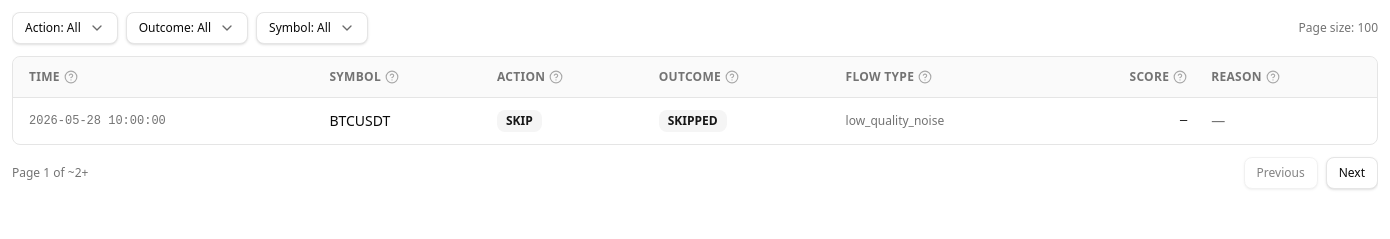
Test: DecisionsFeed — filter changes reset to page 1 › changing the Action filter resets cursor stack so page shows 1
// Advance to page 2.
Click the button "Next".
click(1352, 173)  # box [1326, 157, 1378, 189]
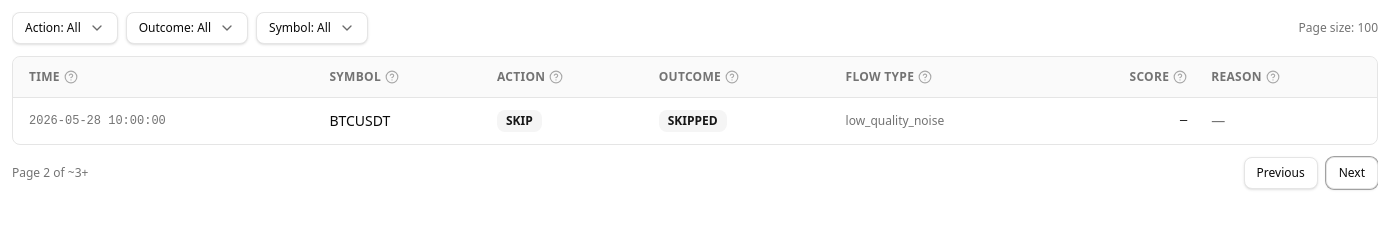
Now the text "Page 2 of ~3+" is shown, box [12, 165, 88, 181]
Click the button "Action: All".
click(65, 28)  # box [12, 12, 118, 44]
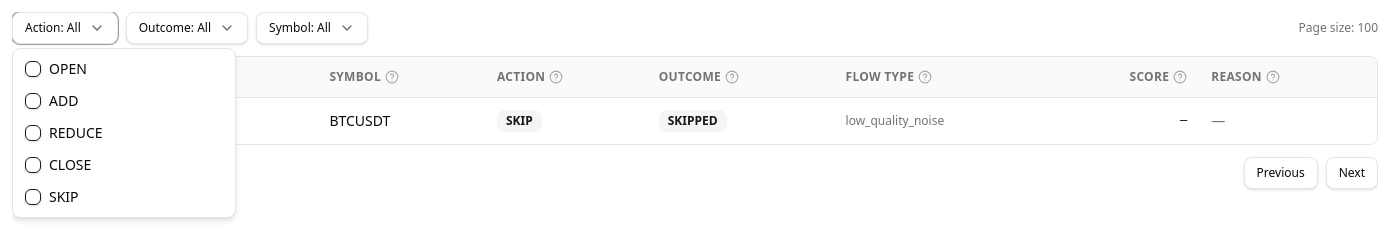
Click the button "SKIP".
click(124, 197)  # box [17, 181, 231, 213]
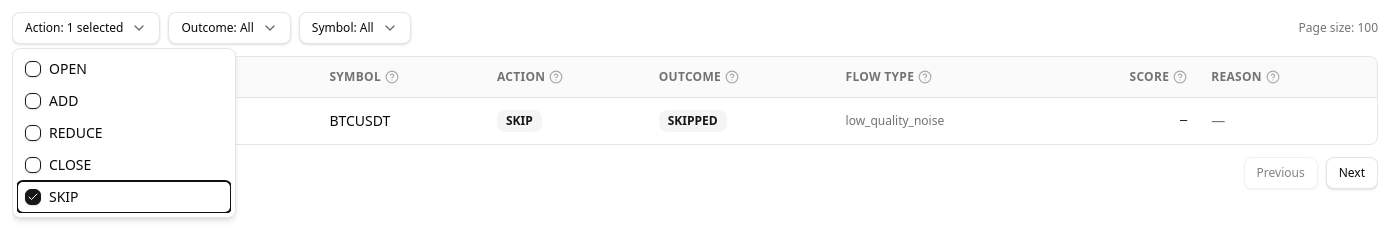
Now the text "Page 1 of ~2+" is shown, box [12, 165, 88, 181]
